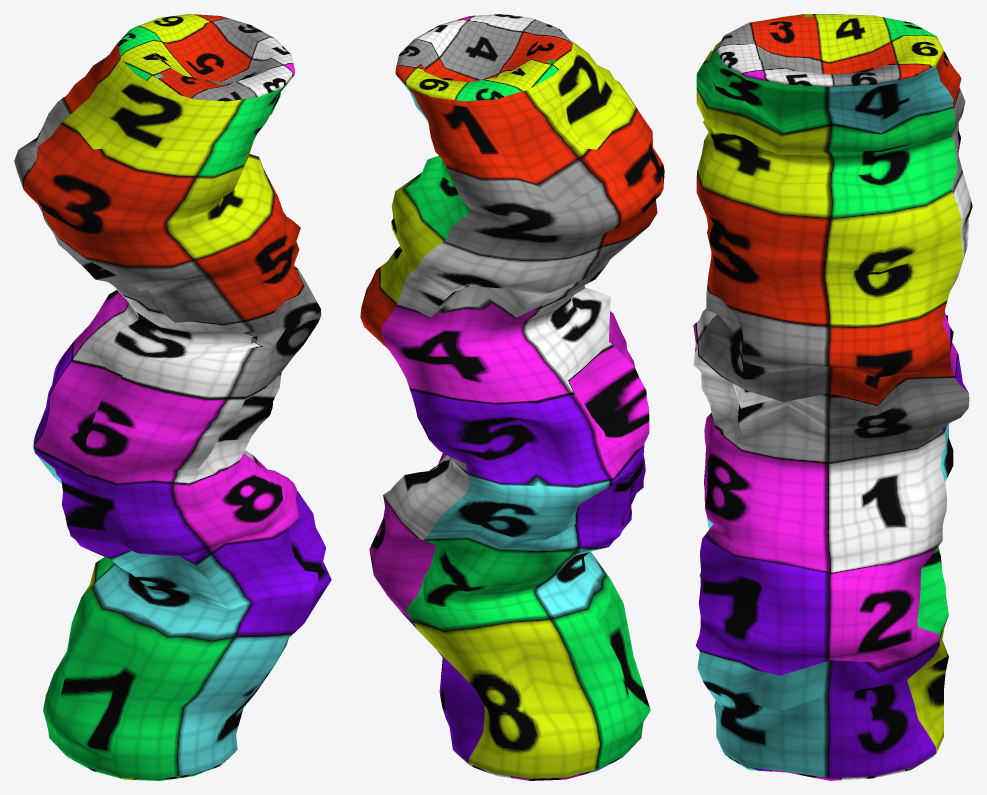
The model's file is Twisted Cavern.fbx.
3 renders of one model, left to right at view 1: azimuth 30°, elevation 25°; view 2: azimuth 150°, elevation 25°; view 3: azimuth 270°, elevation 25°, orthographic. The views are drawn at different scales.
Parts seen in each view (by area): view 1: pCube8; view 2: pCube8; view 3: pCube8.
Boxes of the visible parts, box(x1,y1,x2,y2) form: pCube8: box(14, 14, 331, 780); pCube8: box(360, 14, 664, 780); pCube8: box(693, 14, 972, 780).
Size of the model in its own units: 670 by 1638 by 566.
Materials: 1 (1 with a texture image).
